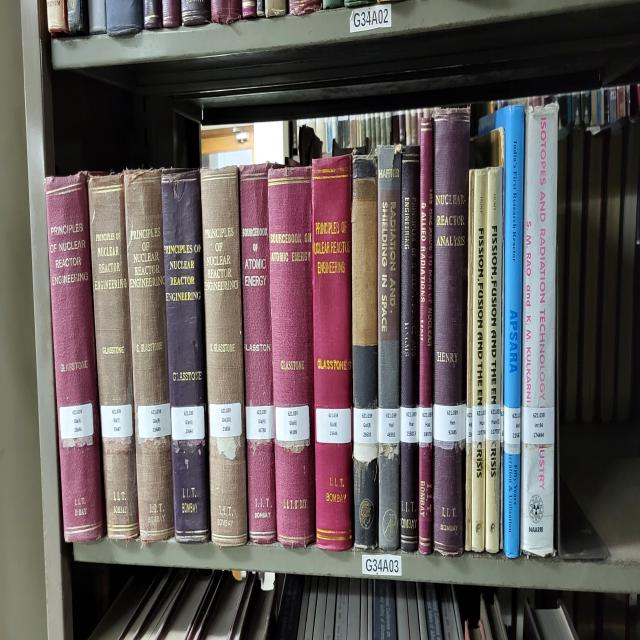Book: (45, 173, 105, 541), (479, 106, 525, 557), (124, 170, 174, 544), (89, 173, 139, 538), (161, 170, 210, 541), (268, 168, 315, 547), (201, 170, 248, 547), (520, 106, 558, 557), (432, 108, 470, 555), (311, 157, 352, 549), (240, 162, 276, 544), (351, 154, 379, 549), (378, 143, 401, 552), (466, 170, 488, 552), (400, 146, 420, 552), (419, 116, 434, 555), (485, 168, 502, 555)
Label: (315, 409, 351, 444), (275, 406, 310, 441), (59, 403, 94, 438), (522, 406, 554, 444), (171, 406, 205, 441), (434, 403, 465, 441), (138, 403, 171, 438), (209, 403, 241, 438), (100, 403, 132, 438), (246, 406, 274, 441), (354, 409, 379, 444), (379, 409, 400, 444), (400, 406, 419, 444), (504, 406, 521, 446), (486, 403, 501, 441), (419, 406, 432, 446), (472, 406, 486, 441)
